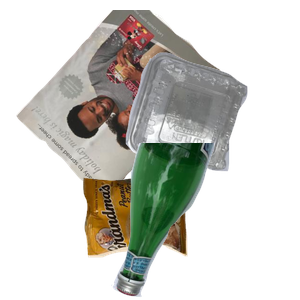glass: (109, 143, 300, 300)
paper: (14, 10, 229, 190)
plastic: (123, 50, 300, 214)
trash: (81, 168, 261, 300)
